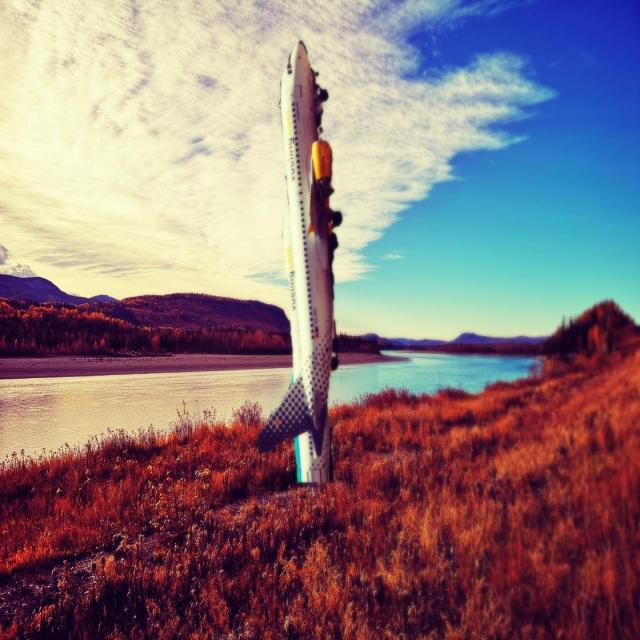airplane: (256, 39, 342, 484)
